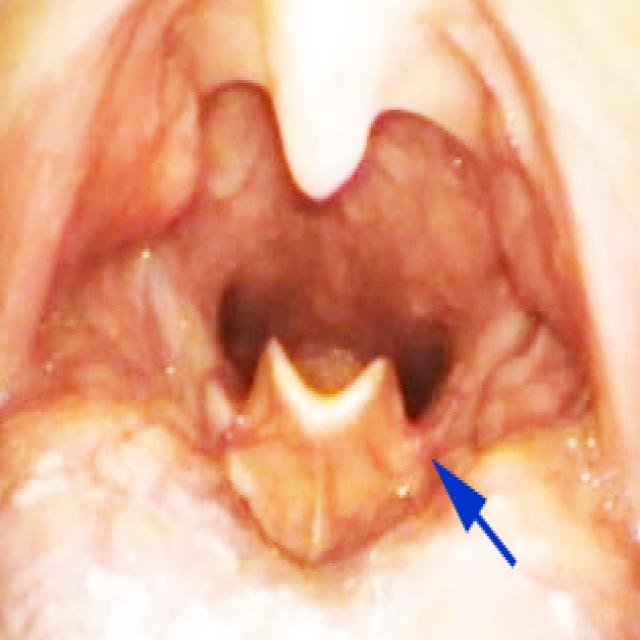epiglottisrotation: (241, 334, 407, 532)
